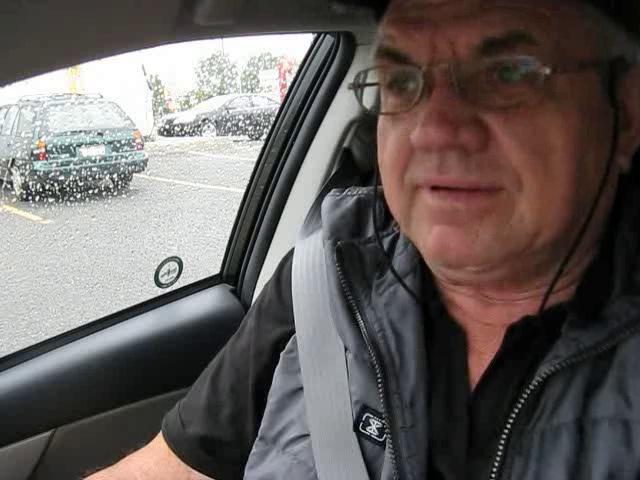no_yawn: (395, 155, 519, 225)
open_eyeL: (360, 53, 442, 122)
open_eyeR: (464, 44, 554, 107)
